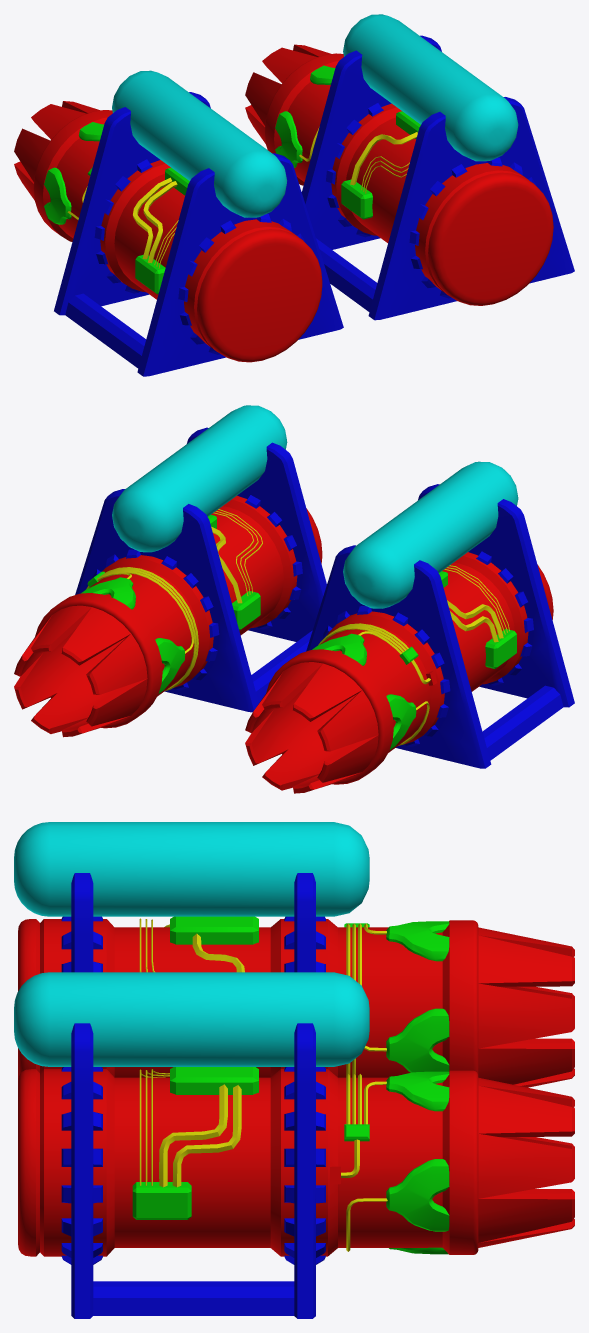
File: Car_01_RocketEngines.fbx
3 views of the same model, one above another, from view 1: azimuth 30°, elevation 25°; view 2: azimuth 150°, elevation 25°; view 3: azimuth 270°, elevation 25° (orthographic). The views are drawn at different scales.
Visible parts, largest first — view 1: RocketEngine.007; view 2: RocketEngine.007; view 3: RocketEngine.007.
Boxes of the visible parts, <box> form: RocketEngine.007: <box>14,14,574,376</box>; RocketEngine.007: <box>14,405,574,793</box>; RocketEngine.007: <box>14,822,574,1318</box>.
Size of the model in its own units: 1.68 by 0.7737 by 1.42.
